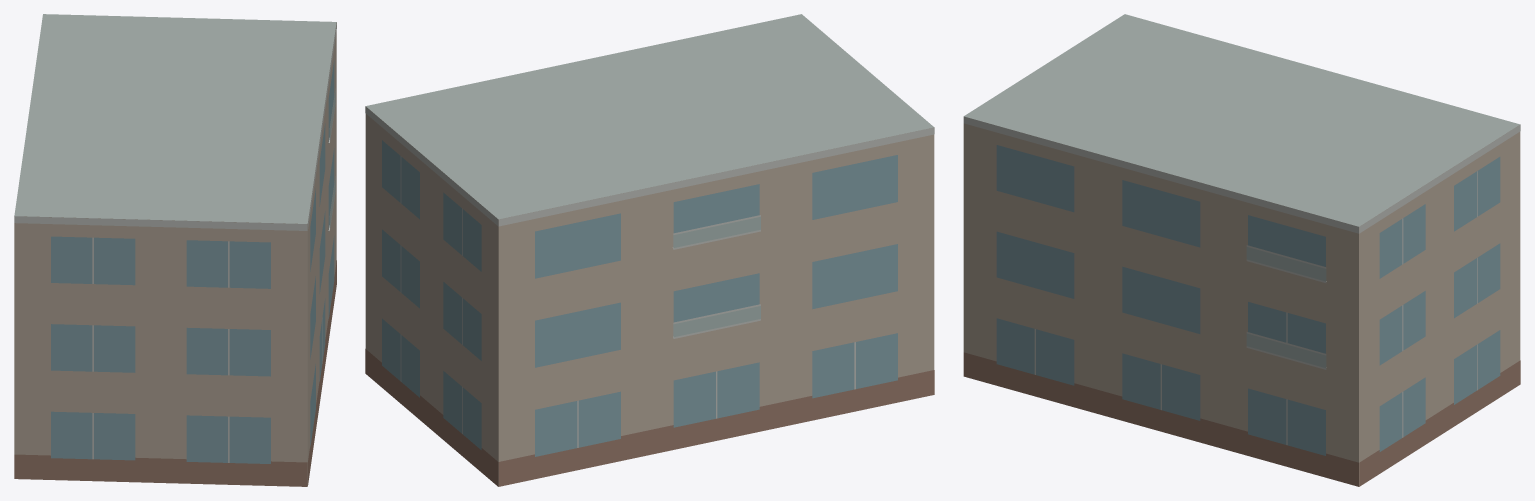
The model's file is survey-upis-32704610.glb.
3 renders of one model, left to right at view 1: azimuth 30°, elevation 25°; view 2: azimuth 150°, elevation 25°; view 3: azimuth 270°, elevation 25°, orthographic. The views are drawn at different scales.
Visible parts, largest first — view 1: survey-upis-32704610.tmp; view 2: survey-upis-32704610.tmp; view 3: survey-upis-32704610.tmp.
Boxes of the visible parts, box(x1,y1,x2,y2) form: survey-upis-32704610.tmp: box(14, 14, 336, 486); survey-upis-32704610.tmp: box(365, 14, 934, 486); survey-upis-32704610.tmp: box(963, 14, 1520, 486).
Size of the model in its own units: 16.07 by 9.15 by 17.76.
